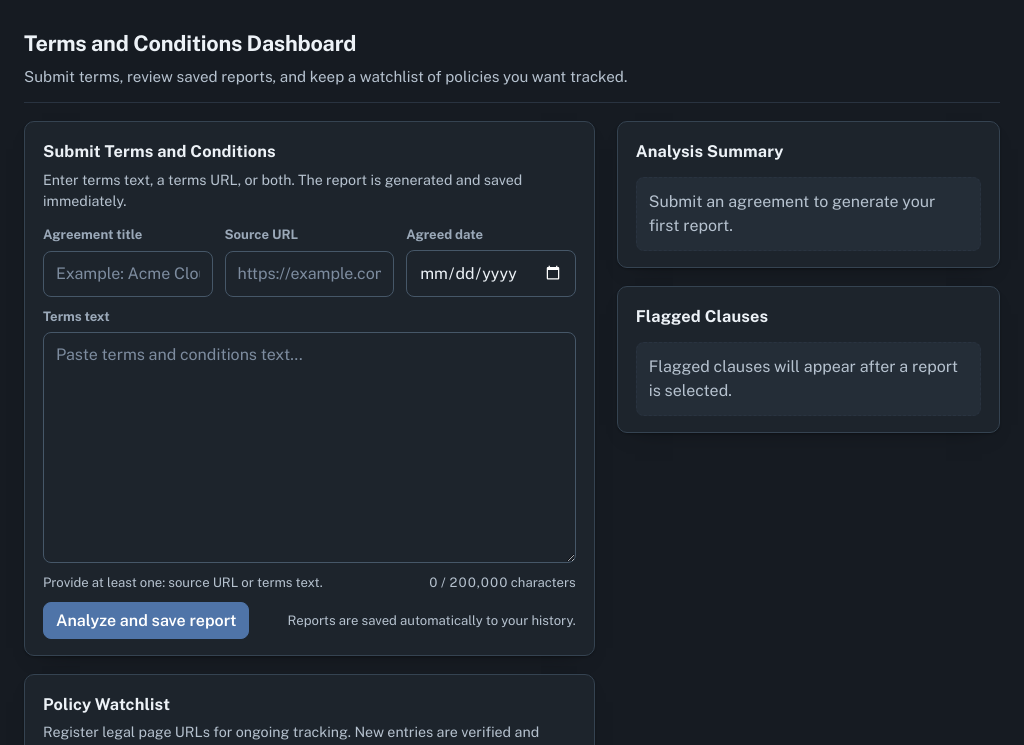
DashboardPage › blocks unsafe source URLs before they are sent to the API
The width and height of the screenshot is (1024, 745).
Type "http://localhost/private-terms" into the field labelled "Source URL".
click(309, 274); type("http://localhost/private-terms")  # box [225,251,394,297]
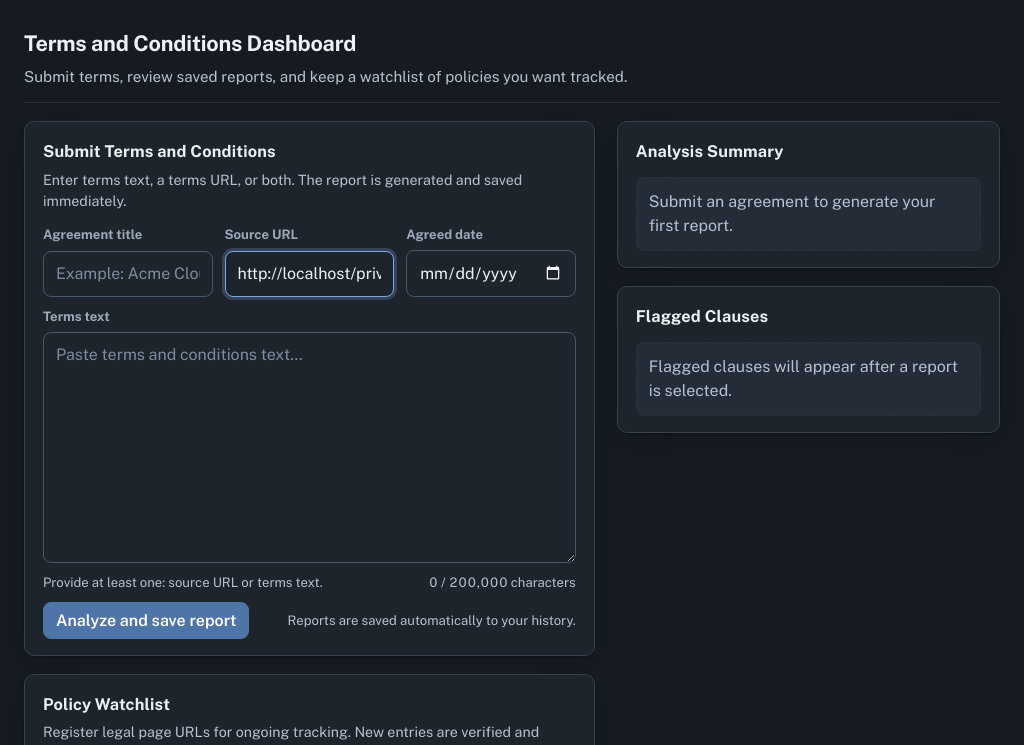
Type "These terms include arbitration and automatic renewal clauses." into the text box labelled "Terms text".
click(309, 447); type("These terms include arbitration and automatic renewal clauses.")  # box [43,332,576,563]
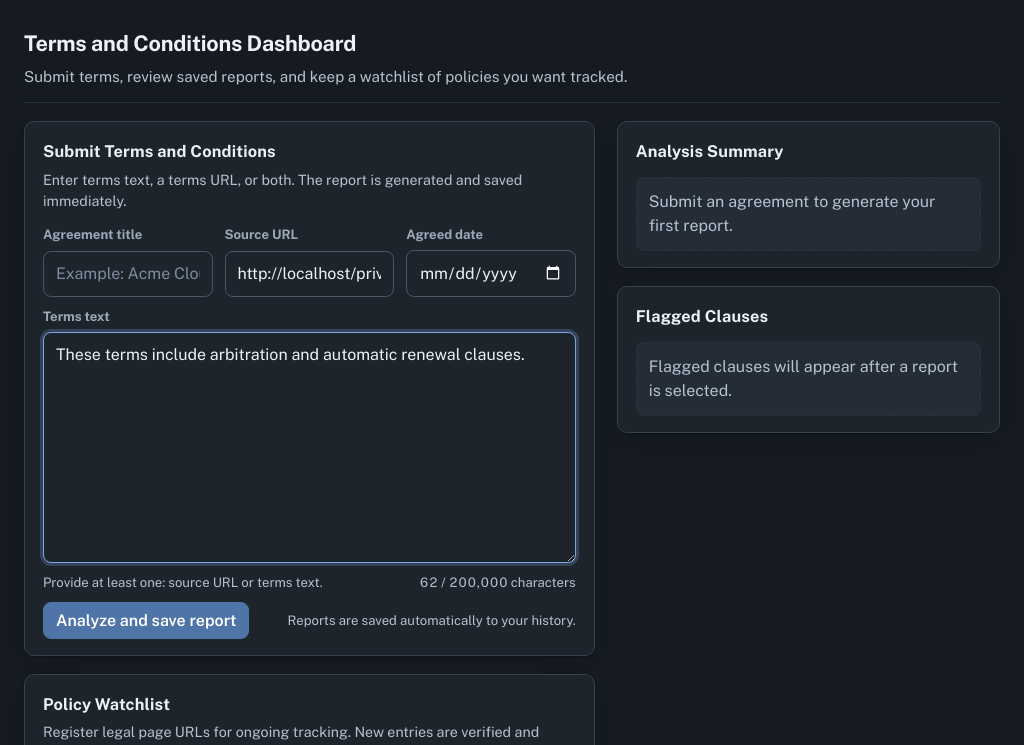
Click the button "Analyze and save report".
click(146, 620)  # box [43,602,249,639]
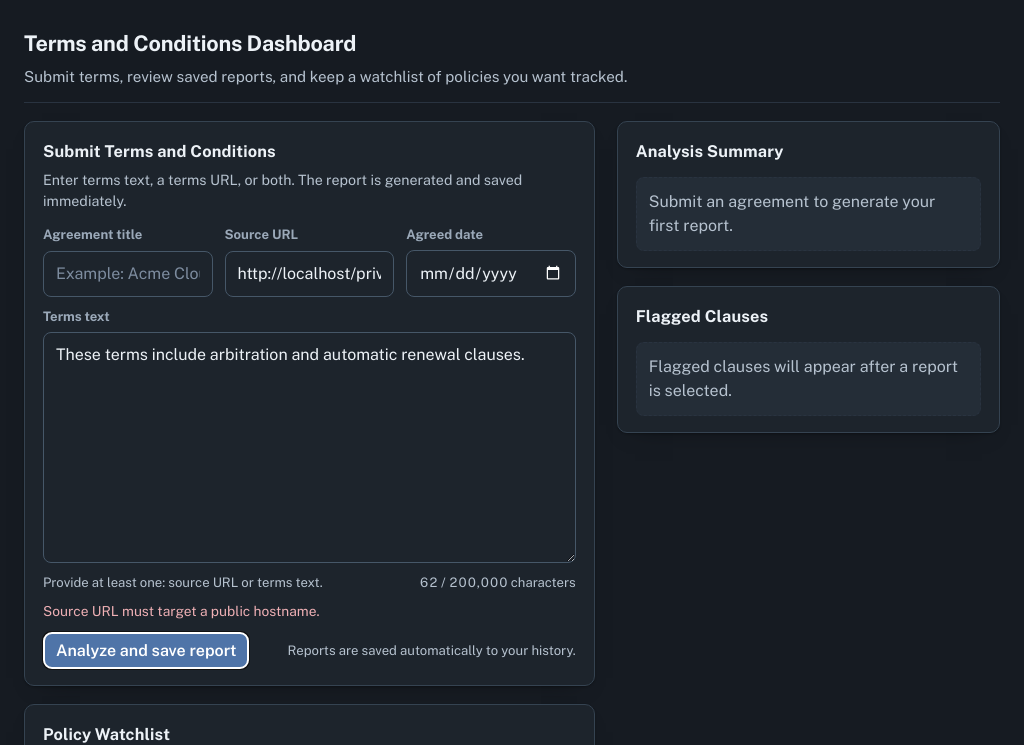
Now the text "Source URL must target a public hostname." is shown, box [43,603,320,619]
